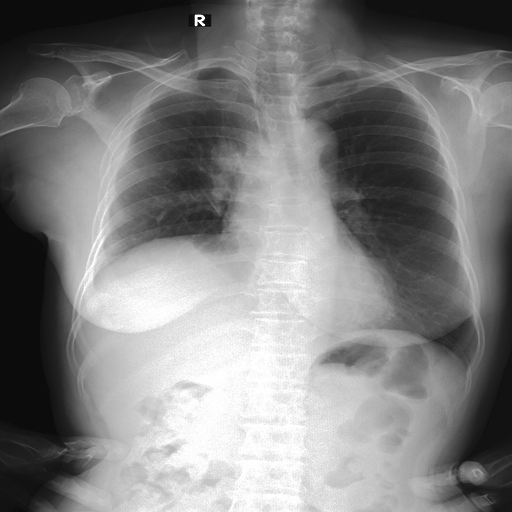Calcification: (146, 67, 196, 100)
Other lesion: (88, 228, 226, 293), (210, 139, 242, 175)
Pleural thickening: (209, 141, 239, 174)
Pneumothorax: (171, 119, 240, 178), (166, 187, 223, 228)
Pulmonary fibrosis: (210, 139, 242, 175)
